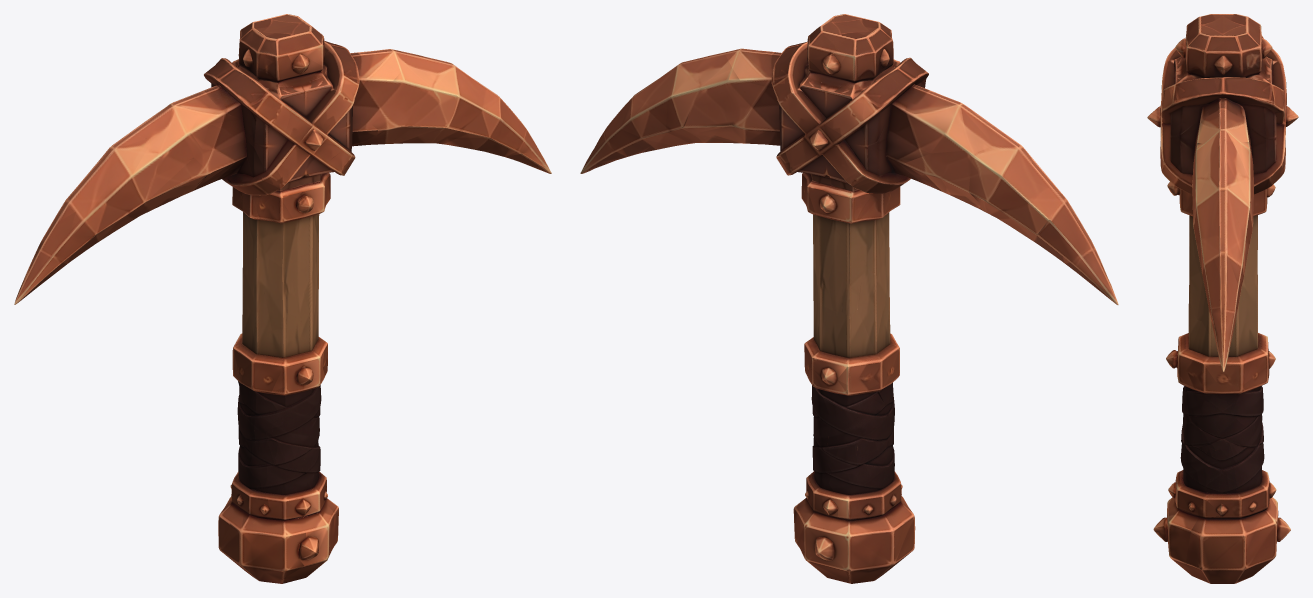
File: Pickaxe_Copper.fbx
The picture shows the model from 3 angles, left to right: view 1: azimuth 30°, elevation 25°; view 2: azimuth 150°, elevation 25°; view 3: azimuth 270°, elevation 25°; orthographic projection.
Visible parts, largest first — view 1: output_unwrapped; view 2: output_unwrapped; view 3: output_unwrapped.
Boxes of the visible parts, x1,y1,x2,y2 form: output_unwrapped: [14, 14, 551, 583]; output_unwrapped: [580, 14, 1118, 583]; output_unwrapped: [1147, 14, 1298, 583].
Bounding box in the file's own units: 190 × 183 × 45.87.
1 material, 1 textured.
